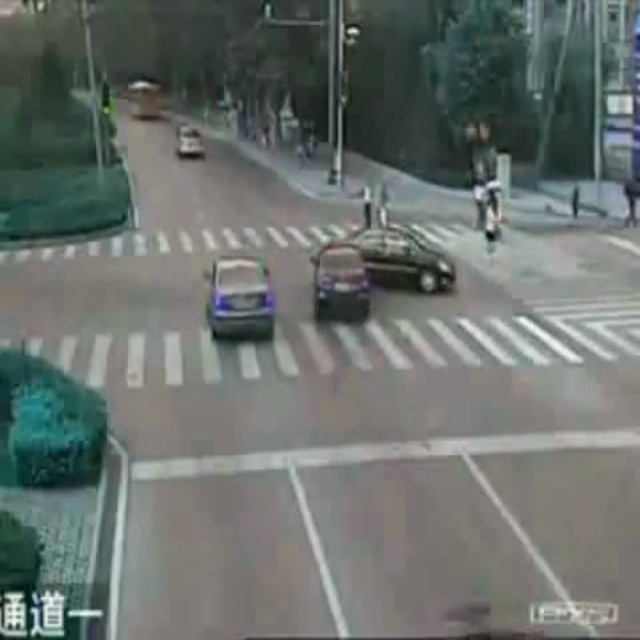acc: (309, 223, 460, 322)
